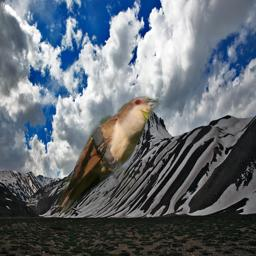Cuckoo: (56, 96, 159, 217)
